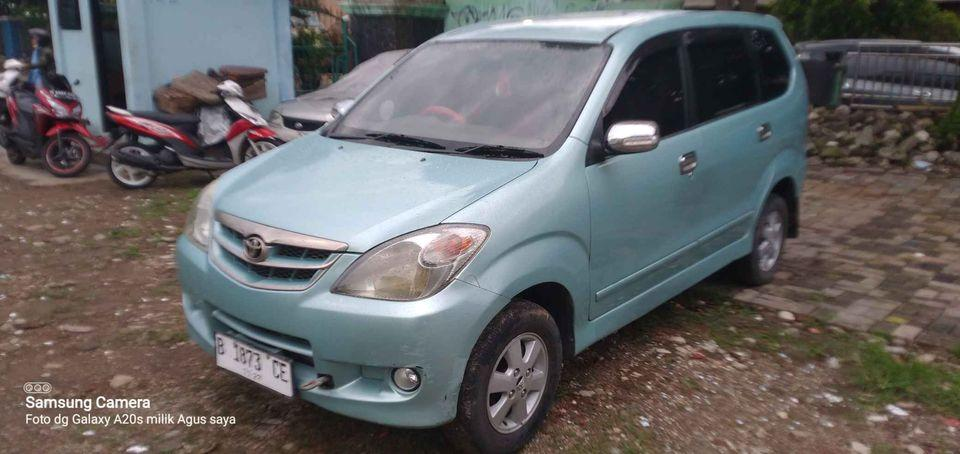plat nomor: (212, 327, 294, 399)
